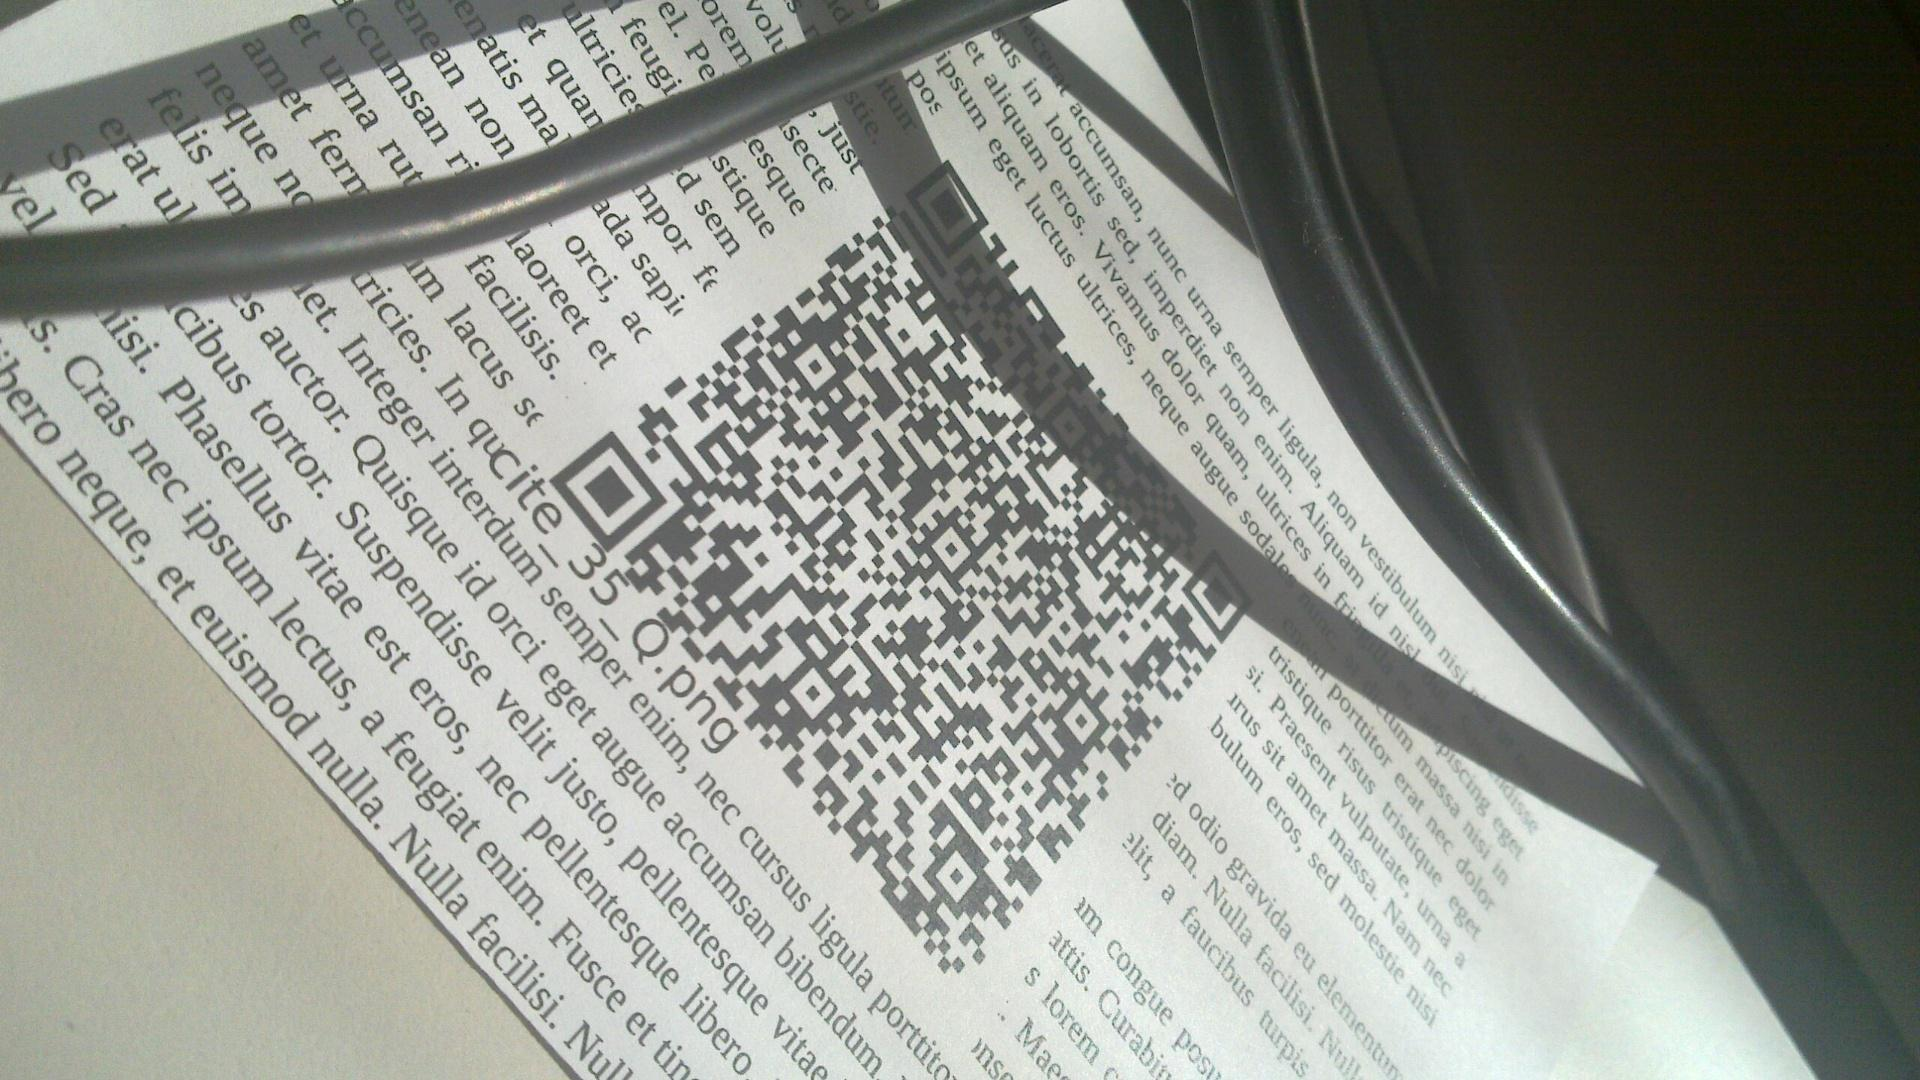Finder pattern: (553, 433, 665, 550), (907, 157, 990, 255), (1182, 549, 1255, 640)
